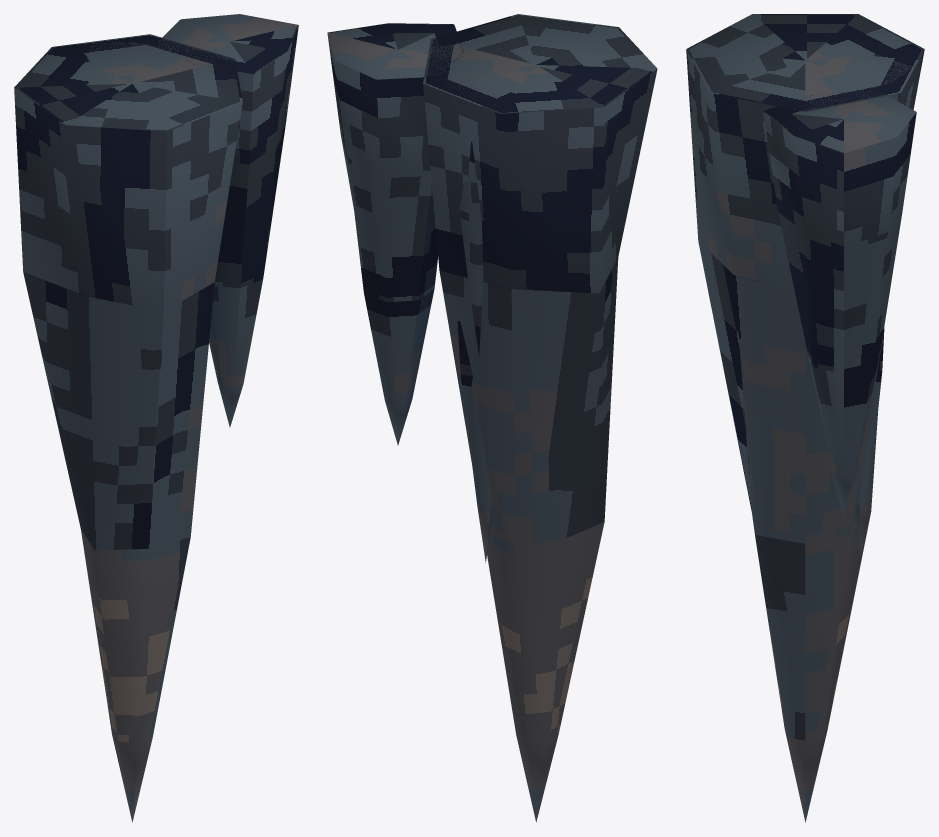
File: cave.spike__stalactite.glb
3 renders of one model, left to right at view 1: azimuth 30°, elevation 25°; view 2: azimuth 150°, elevation 25°; view 3: azimuth 270°, elevation 25°, orthographic. The views are drawn at different scales.
Visible parts, largest first — view 1: kit_dripstone; view 2: kit_dripstone; view 3: kit_dripstone.
Boxes of the visible parts, left/top/right/bottom form: kit_dripstone: left=14, top=14, right=298, bottom=822; kit_dripstone: left=327, top=14, right=657, bottom=822; kit_dripstone: left=686, top=14, right=924, bottom=822.
Bounding box in the file's own units: 0.8646 × 2.2 × 0.624.
1 material, 1 textured.
